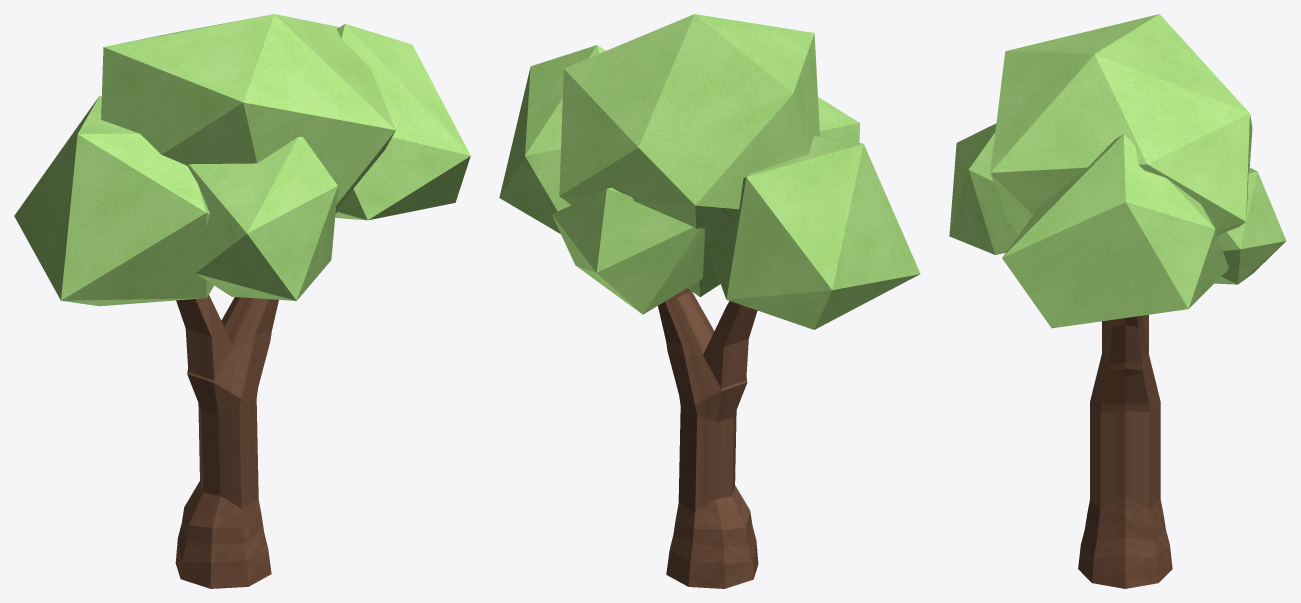
Rendered from Tree 1 .fbx.
3 renders of one model, left to right at view 1: azimuth 30°, elevation 25°; view 2: azimuth 150°, elevation 25°; view 3: azimuth 270°, elevation 25°, orthographic. The views are drawn at different scales.
Parts seen in each view (by area): view 1: Icosphere.004; view 2: Icosphere.004; view 3: Icosphere.004.
Part boxes in pixels (x1,y1,x2,y2): Icosphere.004: [14, 14, 470, 588]; Icosphere.004: [499, 14, 920, 588]; Icosphere.004: [949, 14, 1286, 588].
Bounding box in the file's own units: 6263 × 8723 × 5020.
